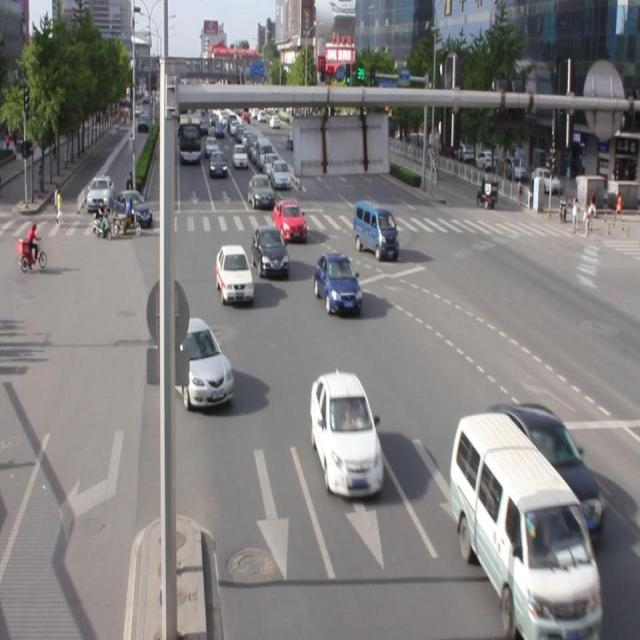car: (490, 399, 604, 531), (309, 370, 383, 496), (156, 316, 232, 408), (314, 253, 361, 316), (216, 244, 253, 305), (251, 225, 289, 280), (272, 198, 306, 244)
truck: (450, 411, 601, 640), (352, 200, 398, 258)
